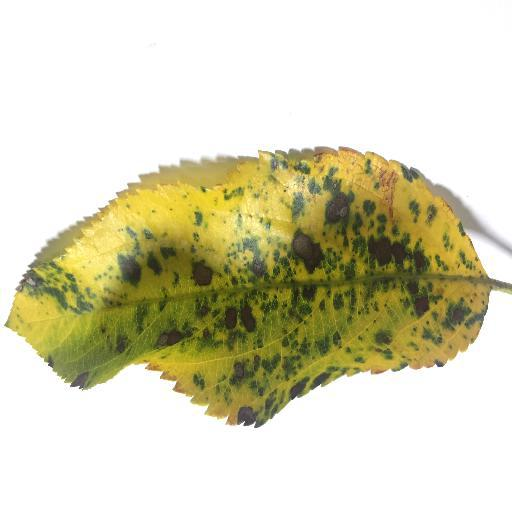Brown_Spot: (411, 290, 468, 328), (375, 238, 431, 268), (292, 236, 327, 263), (231, 355, 262, 381), (226, 308, 258, 333), (235, 404, 270, 425), (147, 326, 185, 345), (188, 262, 214, 285), (326, 199, 351, 219)
